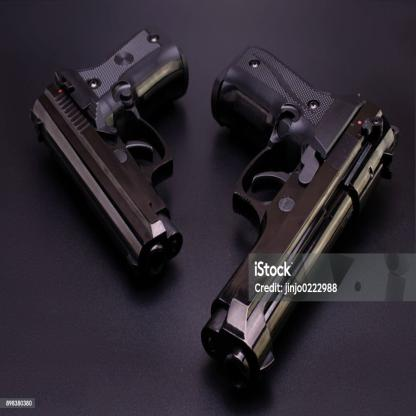handgun: (202, 42, 399, 384), (29, 26, 191, 273)
